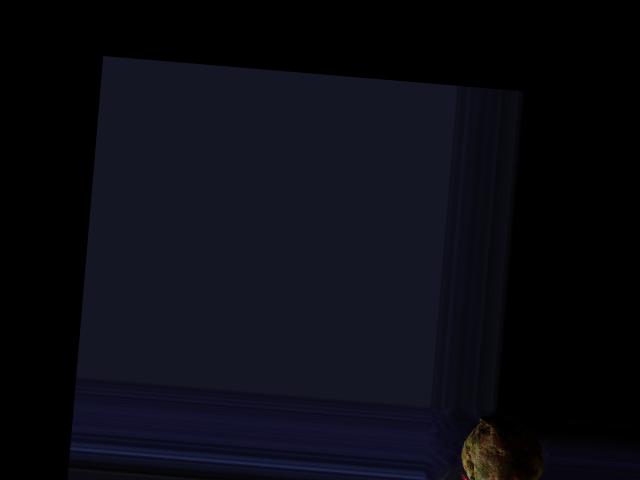beet: (457, 410, 546, 480)
